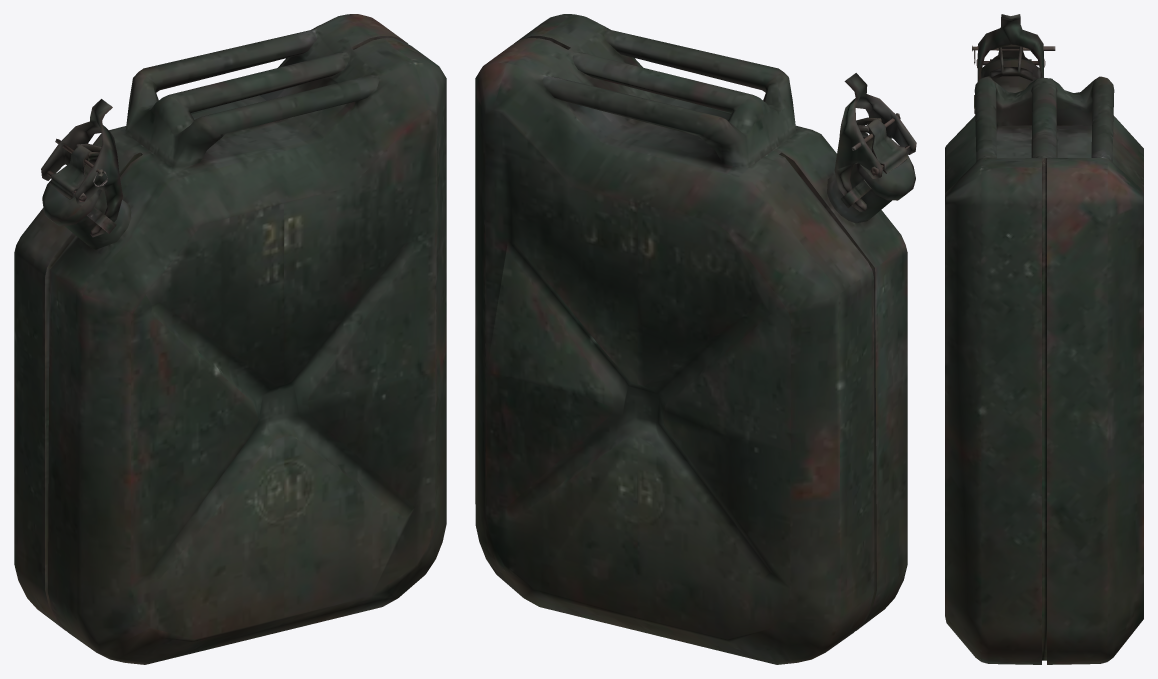
File: metal_jerrycan_green.glb
3 views of the same model, side by side, from view 1: azimuth 30°, elevation 25°; view 2: azimuth 150°, elevation 25°; view 3: azimuth 270°, elevation 25° (orthographic). The views are drawn at different scales.
Parts seen in each view (by area): view 1: metal_jerrycan_green_pin; view 2: metal_jerrycan_green_pin; view 3: metal_jerrycan_green_pin.
Part boxes in pixels (<box>): metal_jerrycan_green_pin: <box>14,14,446,664</box>; metal_jerrycan_green_pin: <box>475,14,916,664</box>; metal_jerrycan_green_pin: <box>945,14,1143,664</box>.
Bounding box in the file's own units: 0.36 × 0.4998 × 0.1709.
1 material, 1 textured.
